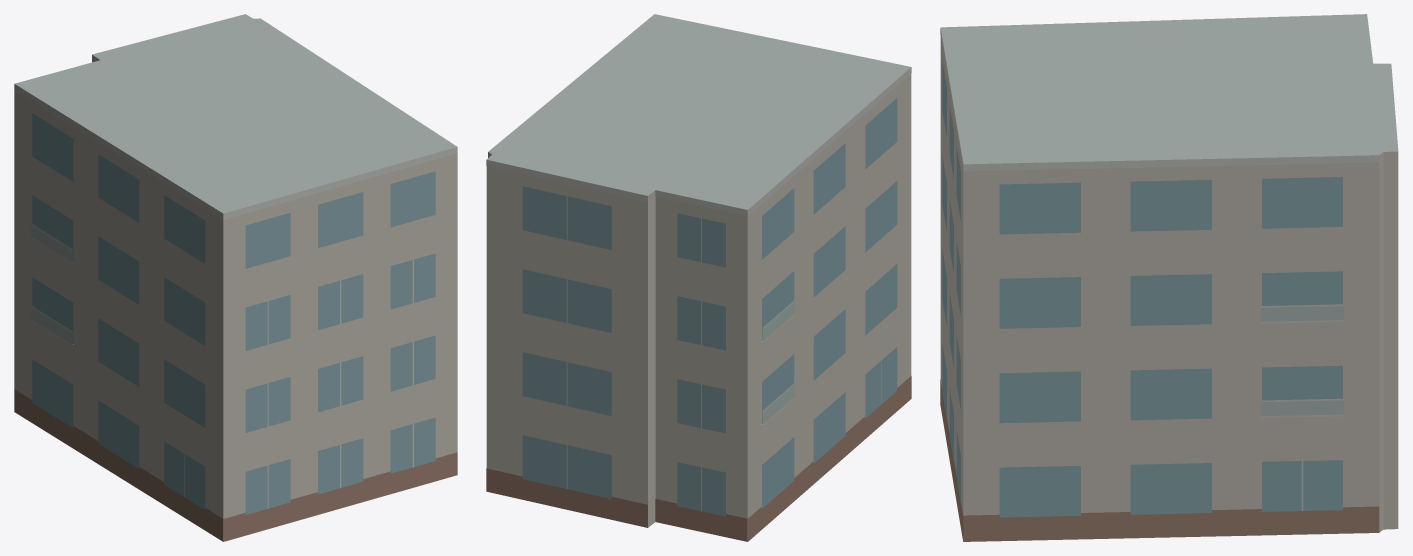
Rendered from survey-upis-32632440.glb.
3 views of the same model, side by side, from view 1: azimuth 30°, elevation 25°; view 2: azimuth 150°, elevation 25°; view 3: azimuth 270°, elevation 25° (orthographic). The views are drawn at different scales.
Visible parts, largest first — view 1: survey-upis-32632440.tmp; view 2: survey-upis-32632440.tmp; view 3: survey-upis-32632440.tmp.
Part boxes in pixels (x1,y1,x2,y2): survey-upis-32632440.tmp: (14, 14, 457, 541); survey-upis-32632440.tmp: (486, 14, 911, 541); survey-upis-32632440.tmp: (940, 14, 1398, 541).
Bounding box in the file's own units: 11.02 × 12.9 × 14.19.
